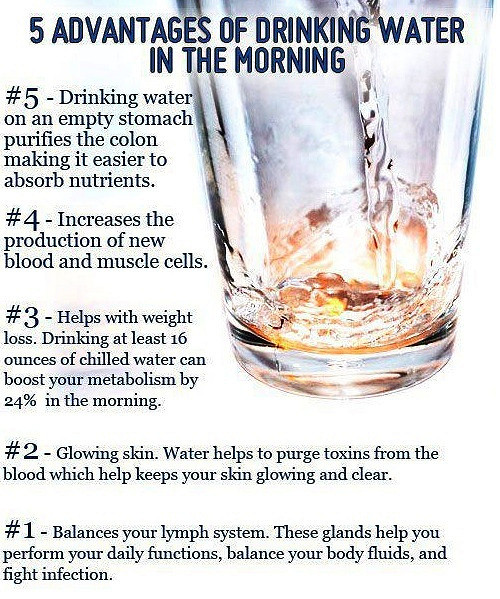glass of water: (186, 8, 468, 384)
